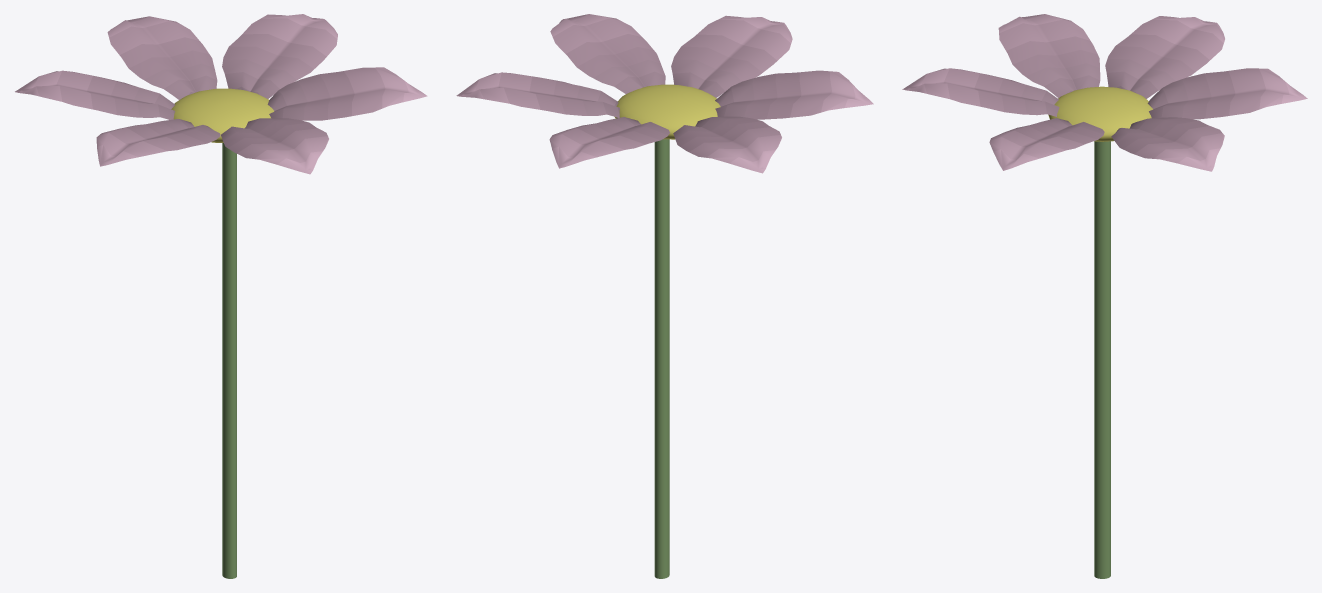
Rendered from pinkflowerallpetals.fbx.
3 renders of one model, left to right at view 1: azimuth 30°, elevation 25°; view 2: azimuth 150°, elevation 25°; view 3: azimuth 270°, elevation 25°, orthographic.
Parts seen in each view (by area): view 1: pasted__pasted__pasted__pasted__pasted__polySurface1, pasted__pCylinder1, pasted__pasted__pasted__pasted__polySurface1, pasted__pasted__pasted__pasted__pasted__pasted__polySurface1, pasted__pasted__pasted__polySurface1, pasted__polySurface1, pasted__pasted__polySurface1, pSphere1; view 2: pasted__pCylinder1, pasted__polySurface1, pasted__pasted__pasted__pasted__pasted__pasted__polySurface1, pasted__pasted__polySurface1, pasted__pasted__pasted__pasted__pasted__polySurface1, pasted__pasted__pasted__polySurface1, pSphere1, pasted__pasted__pasted__pasted__polySurface1; view 3: pasted__pCylinder1, pasted__pasted__pasted__polySurface1, pasted__pasted__polySurface1, pasted__pasted__pasted__pasted__polySurface1, pasted__polySurface1, pasted__pasted__pasted__pasted__pasted__polySurface1, pasted__pasted__pasted__pasted__pasted__pasted__polySurface1, pSphere1.
Boxes of the visible parts, <box> form: pasted__pasted__pasted__pasted__pasted__polySurface1: <box>222,14,337,98</box>; pasted__pCylinder1: <box>222,143,236,578</box>; pasted__pasted__pasted__pasted__polySurface1: <box>107,16,217,99</box>; pasted__pasted__pasted__pasted__pasted__pasted__polySurface1: <box>267,67,427,120</box>; pasted__pasted__pasted__polySurface1: <box>15,70,175,119</box>; pasted__polySurface1: <box>221,118,328,174</box>; pasted__pasted__polySurface1: <box>96,119,220,166</box>; pSphere1: <box>171,88,274,142</box>; pasted__pCylinder1: <box>654,139,669,578</box>; pasted__polySurface1: <box>671,15,792,97</box>; pasted__pasted__pasted__pasted__pasted__pasted__polySurface1: <box>550,14,665,93</box>; pasted__pasted__polySurface1: <box>715,70,873,119</box>; pasted__pasted__pasted__pasted__pasted__polySurface1: <box>456,72,619,117</box>; pasted__pasted__pasted__polySurface1: <box>673,116,781,173</box>; pSphere1: <box>614,84,720,139</box>; pasted__pasted__pasted__pasted__polySurface1: <box>549,117,670,168</box>; pasted__pCylinder1: <box>1094,141,1110,578</box>; pasted__pasted__pasted__polySurface1: <box>1105,16,1224,98</box>; pasted__pasted__polySurface1: <box>998,14,1100,98</box>; pasted__pasted__pasted__pasted__polySurface1: <box>1147,68,1307,119</box>; pasted__polySurface1: <box>902,68,1059,116</box>; pasted__pasted__pasted__pasted__pasted__polySurface1: <box>1111,117,1224,171</box>; pasted__pasted__pasted__pasted__pasted__pasted__polySurface1: <box>989,118,1104,170</box>; pSphere1: <box>1048,86,1152,141</box>.
Size of the model in its own units: 0.6459 by 0.9555 by 0.7152.
